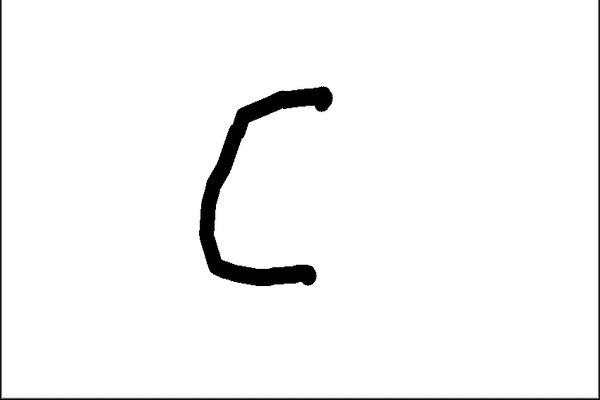C: (193, 79, 343, 291)
